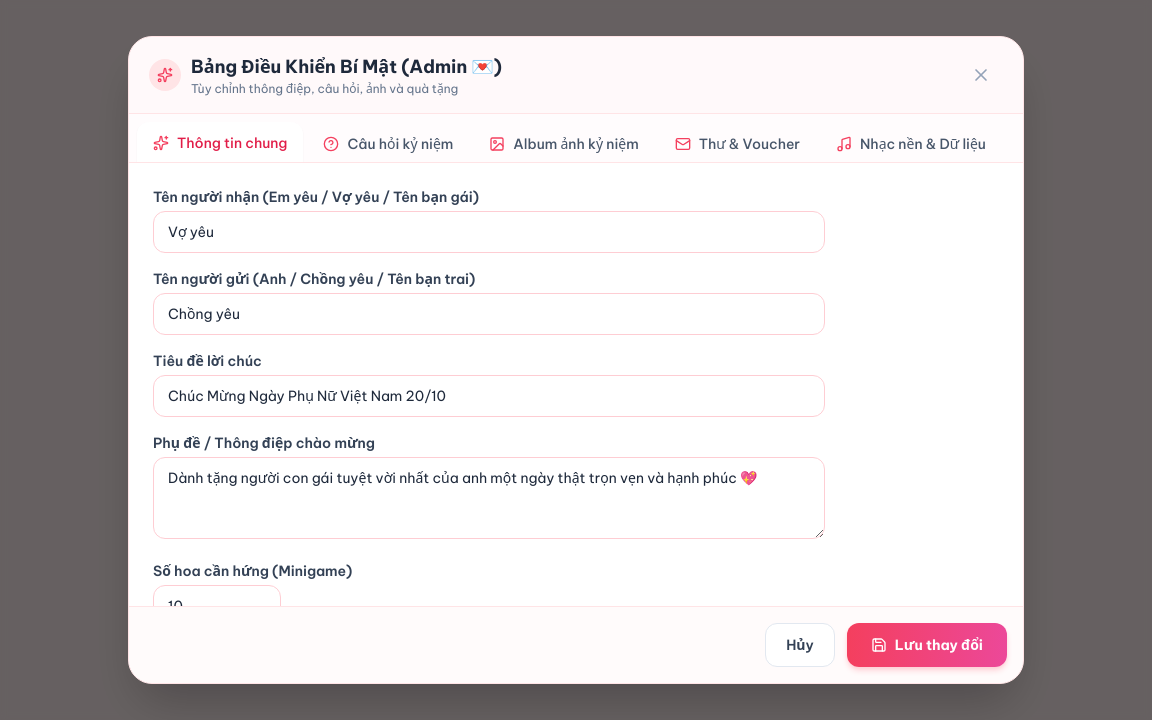
AdminModal Component › Tab 5: BGM & JSON Data Import/Export/Reset › exports config to clipboard
Click the tab "Nhạc nền & Dữ liệu" at (911, 144), box x1=820 y1=122 x2=1002 y2=166
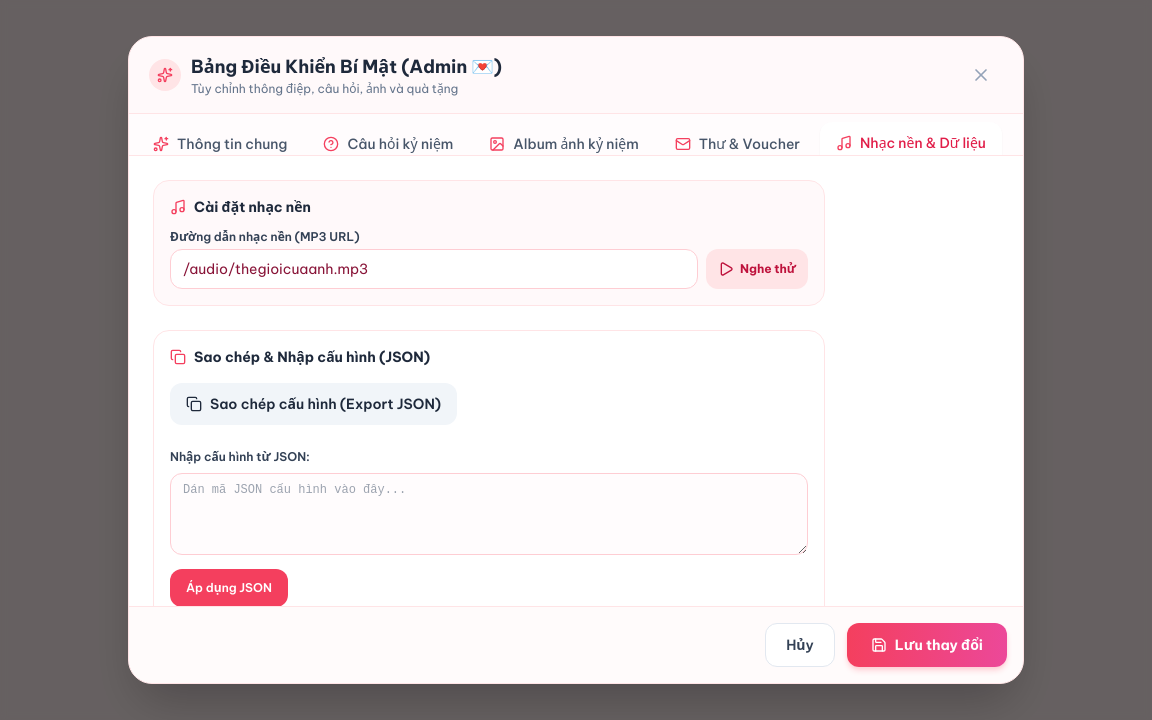
Click the button "Sao chép cấu hình (Export JSON)" at (314, 404), box x1=170 y1=383 x2=457 y2=425
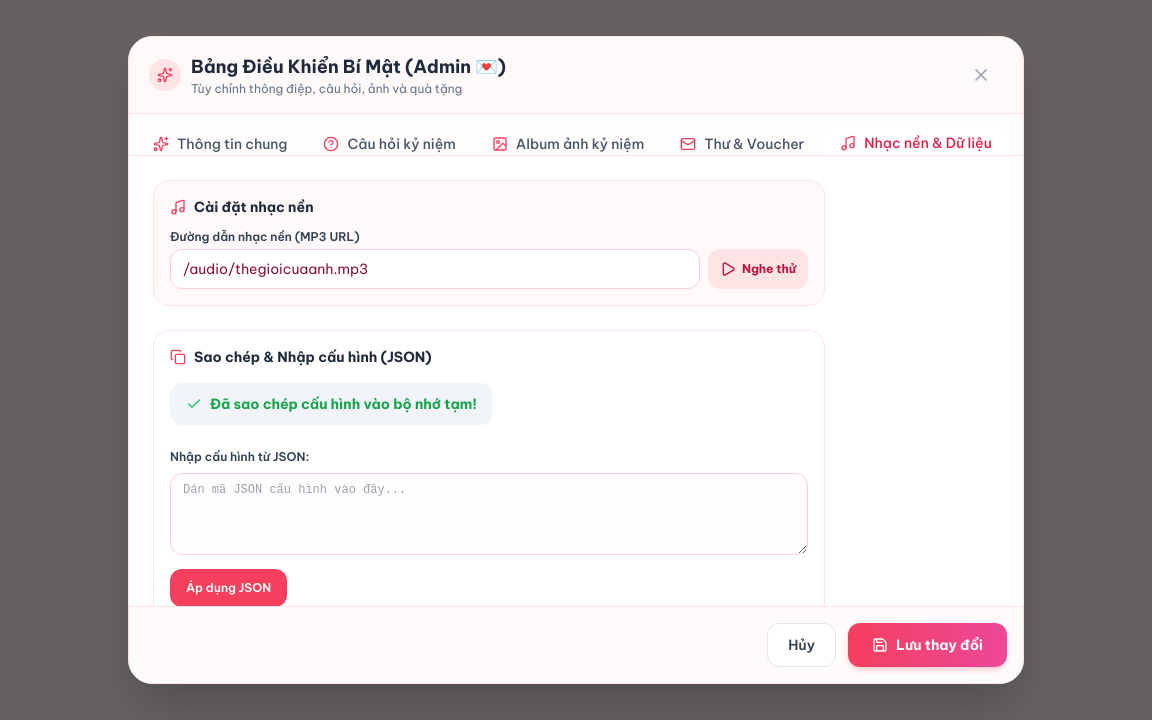
Now the text "Đã sao chép cấu hình vào bộ nhớ tạm!" is shown, box x1=210 y1=394 x2=477 y2=414
